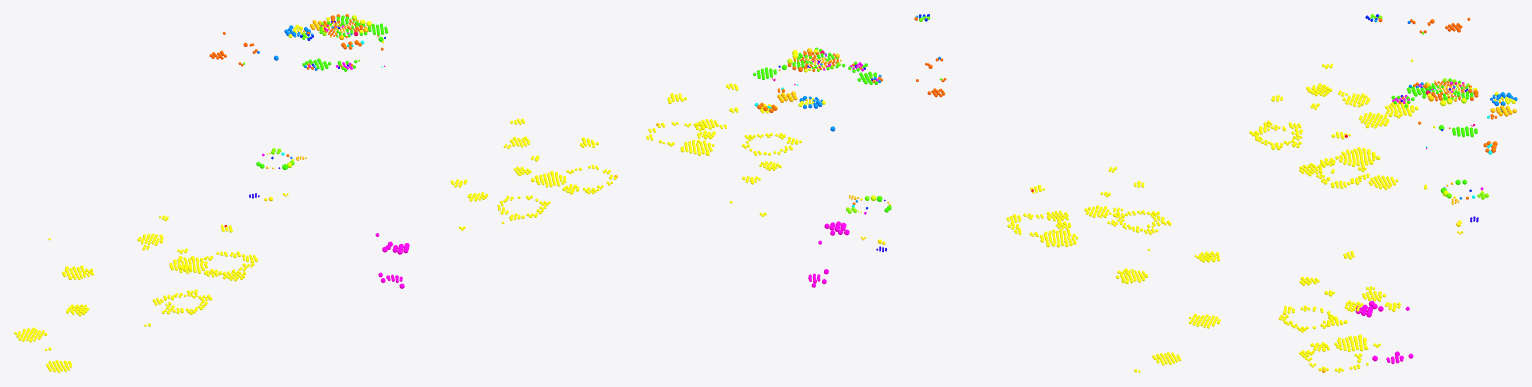
File: task-afceeea1f-layout.gltf
The picture shows the model from 3 angles, left to right: view 1: azimuth 30°, elevation 25°; view 2: azimuth 150°, elevation 25°; view 3: azimuth 270°, elevation 25°; orthographic projection. The views are drawn at different scales.
Parts seen in each view (by area): view 1: normal_java_files, normal_tar_files; view 2: normal_java_files, normal_tar_files, normal_zip_files; view 3: normal_java_files, normal_tar_files, normal_zip_files, normal_apk_files, normal_7z_files, normal_xml_files, normal_jar_files.
Part boxes in pixels (x1,y1,x2,y2): normal_java_files: (14,118,616,372); normal_tar_files: (256,15,388,169); normal_java_files: (646,83,1220,372); normal_tar_files: (753,47,891,212); normal_zip_files: (757,50,882,204); normal_java_files: (1249,59,1427,372); normal_tar_files: (1391,78,1477,193); normal_zip_files: (1398,80,1497,199); normal_apk_files: (1355,301,1413,363); normal_7z_files: (1425,80,1516,186); normal_xml_files: (1378,17,1470,100); normal_jar_files: (1408,82,1517,199).
Bounding box in the file's own units: 516 × 237 × 195.
